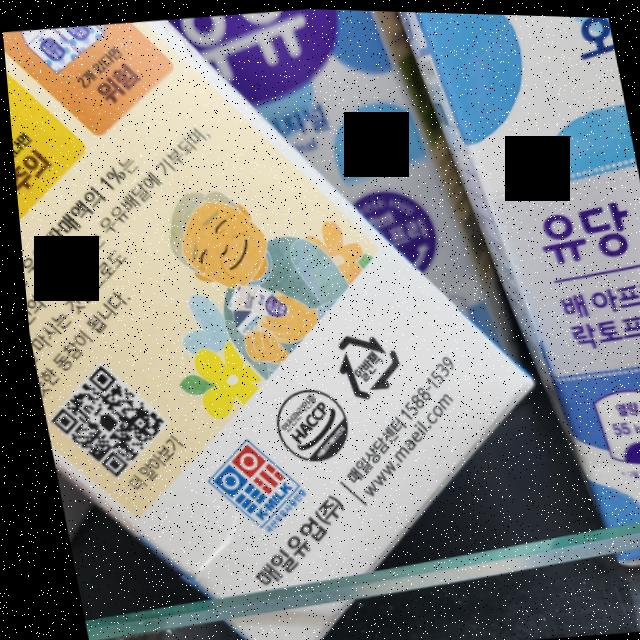NormalPack: (319, 326, 401, 401)
